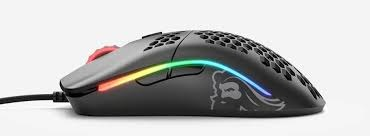mouse: (53, 32, 323, 121)
